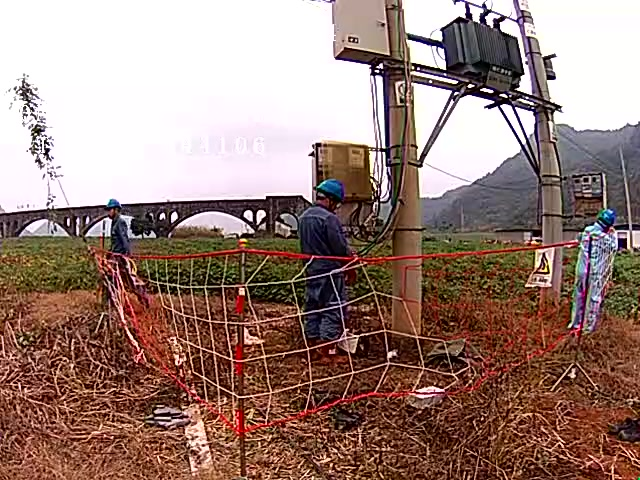halt: (316, 182, 349, 211), (599, 211, 620, 231), (108, 202, 125, 220)
inear: (327, 196, 340, 212)
